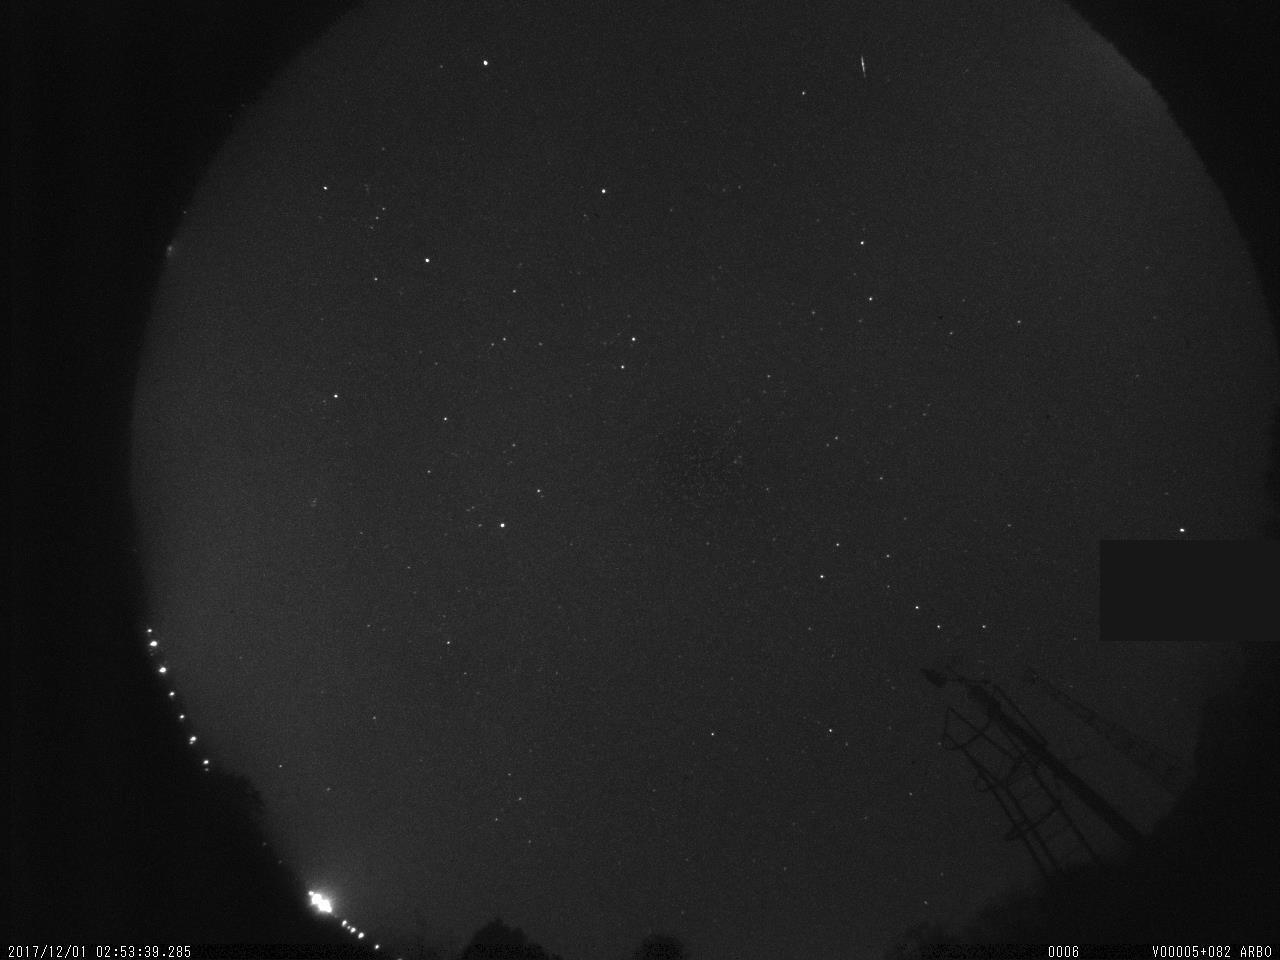Meteor: (853, 49, 877, 82)
